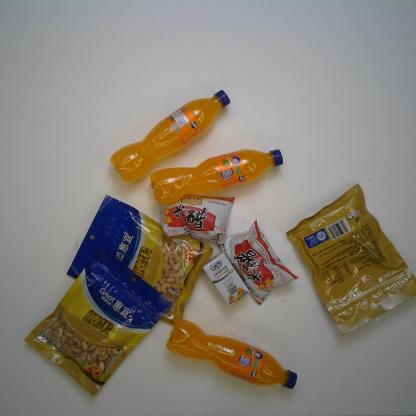Dried Fruit: (24, 247, 175, 397), (285, 182, 416, 336), (65, 194, 214, 326)
Drink: (109, 89, 231, 183), (166, 318, 298, 390), (150, 149, 284, 204)
Milk: (202, 252, 250, 306)
Seasoner: (217, 219, 298, 306), (158, 194, 236, 245)
